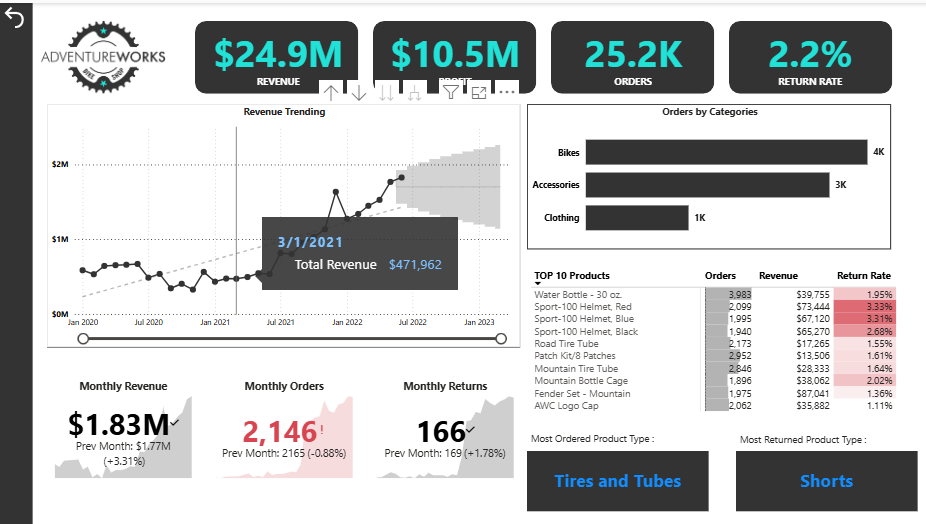

This screenshot's page, from the dashboard's own definition file:
{"tool":"powerbi","page":{"name":"Exce Dashboard","canvas":[1280,720],"ordinal":0},"visuals":[{"type":"shape","title":"Left Nav Background","box":[0,0,44.9,720],"z":0},{"type":"image","title":"AW logo","box":[33.1,0,219.2,149.8],"z":0,"group":"g2"},{"type":"group","id":"g1","title":"KPIs","box":[0,0,1245.2,150.3],"z":1000},{"type":"group","id":"g2","title":"KPI Background","box":[33.1,0,1194.5,149.8],"z":1000,"group":"g1"},{"type":"shape","box":[267.9,24.7,224.7,100],"z":1000,"group":"g2"},{"type":"card","fields":{"Values":["Measure table.Total Revenue"]},"box":[252.7,0,259.8,150.3],"z":2000,"group":"g3"},{"type":"shape","box":[1003,24.7,224.7,100],"z":2000,"group":"g2"},{"type":"lineChart","title":"Revenue Trending","fields":{"Y":["Measure table.Total Revenue"],"Category":["Calendar Lookup.Date Hierarchy.Start of Year","Calendar Lookup.Date Hierarchy.Start of Month"]},"box":[64.4,139,651.2,335.1],"z":2000},{"type":"card","fields":{"Values":["Measure table.Return Rate"]},"box":[985.4,0,259.8,150.3],"z":3000,"group":"g3"},{"type":"shape","box":[757.9,24.7,224.7,100],"z":3000,"group":"g2"},{"type":"kpi","title":"Monthly Revenue","fields":{"Indicator":["Measure table.Total Revenue"],"TrendLine":["Calendar Lookup.Start of Month"],"Goal":["Measure table.Perivous month period"]},"box":[70,515.7,198.6,142.9],"z":3000},{"type":"card","fields":{"Values":["Measure table.Total Orders"]},"box":[741.2,0,259.8,150.3],"z":4000,"group":"g3"},{"type":"shape","box":[512.9,24.7,224.7,100],"z":4000,"group":"g2"},{"type":"kpi","title":"Monthly Returns","fields":{"TrendLine":["Calendar Lookup.Start of Month"],"Indicator":["Measure table.Total Returns"],"Goal":["Measure table.Perivous month Returns"]},"box":[512.9,515.7,198.6,142.9],"z":4000},{"type":"card","fields":{"Values":["Measure table.Total profit"]},"box":[496.9,0,259.8,150.3],"z":5000,"group":"g3"},{"type":"kpi","title":"Monthly Orders ","fields":{"TrendLine":["Calendar Lookup.Start of Month"],"Indicator":["Measure table.Total Orders"],"Goal":["Measure table.Perivous Month Order"]},"box":[291.4,515.7,198.6,142.9],"z":5000},{"type":"group","id":"g3","title":"KPI Values","box":[252.7,0,992.5,150.3],"z":5001,"group":"g1"},{"type":"barChart","title":"Orders by Categories ","fields":{"Category":["Product Categories Lookup.CategoryName"],"Y":["Measure table.Total Orders"]},"box":[725.7,138.6,501.4,200],"z":6000},{"type":"pivotTable","fields":{"Rows":["Product Lookup.ProductName"],"Values":["Measure table.Total Orders","Measure table.Total Revenue","Measure table.Return Rate"]},"box":[725.2,359.9,521.5,214.2],"z":7000},{"type":"card","fields":{"Values":["Min(Product Subcategories Lookup.SubcategoryName)"]},"box":[724.9,616.5,249.7,82.8],"z":8000},{"type":"textbox","box":[725.2,584.7,217.7,40.4],"z":9000},{"type":"card","fields":{"Values":["Min(Product Subcategories Lookup.SubcategoryName)"]},"box":[1013.2,616.5,249.7,82.8],"z":10000},{"type":"textbox","box":[1013.2,586.5,216.9,40],"z":11000},{"type":"actionButton","box":[0,0,45.4,39.5],"z":11001,"group":"g1"}]}

Visuals, with their boxes on the page's 1280x720 design canvas (x1, y1, x2, y2). These are canvas units, not pixel positions in the 926x524 screenshot, which may show the page scaled, cropped or inside an application window:
"Left Nav Background" shape: 0 0 45 720
"AW logo" image: 33 0 252 150
"KPIs" group: 0 0 1245 150
"KPI Background" group: 33 0 1228 150
shape: 268 25 493 125
card - Measure table.Total Revenue: 253 0 512 150
shape: 1003 25 1228 125
"Revenue Trending" lineChart: 64 139 716 474
card - Measure table.Return Rate: 985 0 1245 150
shape: 758 25 983 125
"Monthly Revenue" kpi: 70 516 269 659
card - Measure table.Total Orders: 741 0 1001 150
shape: 513 25 738 125
"Monthly Returns" kpi: 513 516 712 659
card - Measure table.Total profit: 497 0 757 150
"Monthly Orders " kpi: 291 516 490 659
"KPI Values" group: 253 0 1245 150
"Orders by Categories " barChart: 726 139 1227 339
pivotTable - Product Lookup.ProductName x Measure table.Total Orders: 725 360 1247 574
card - Min(Product Subcategories Lookup.SubcategoryName): 725 616 975 699
textbox: 725 585 943 625
card - Min(Product Subcategories Lookup.SubcategoryName): 1013 616 1263 699
textbox: 1013 586 1230 626
actionButton: 0 0 45 40
